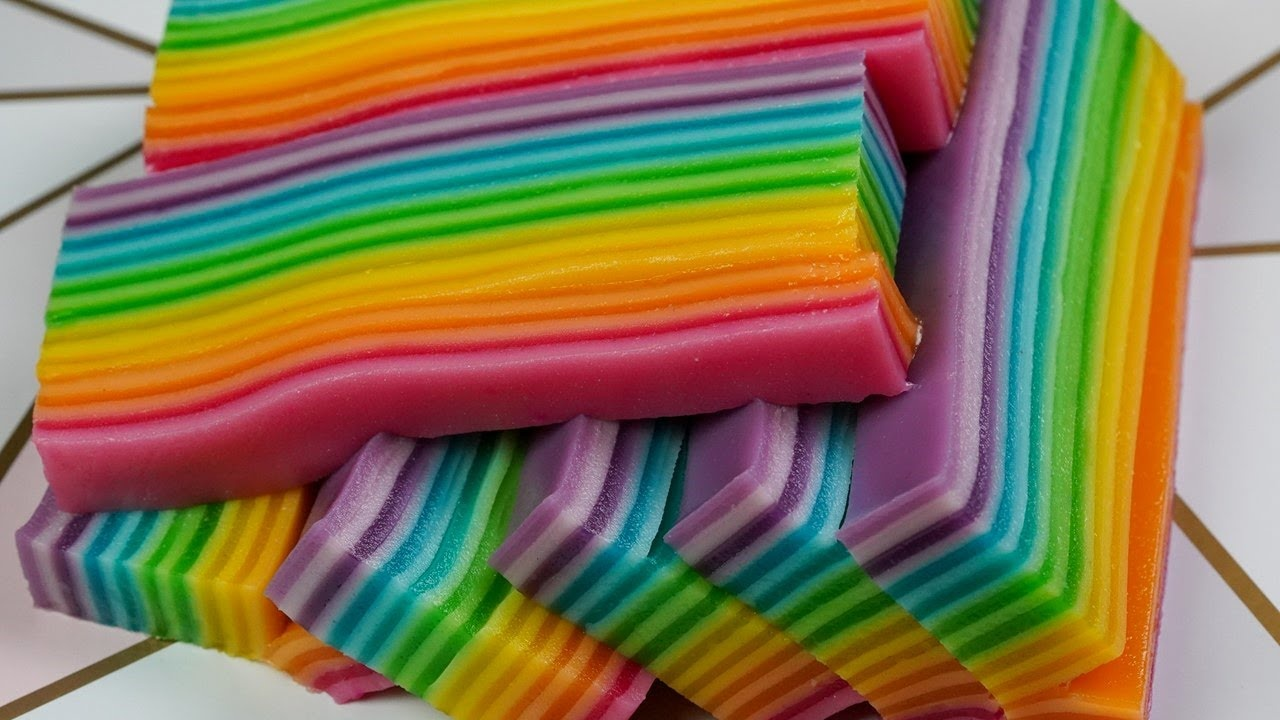kue_lapis_pelangi: (32, 49, 912, 517), (845, 1, 1202, 711)
